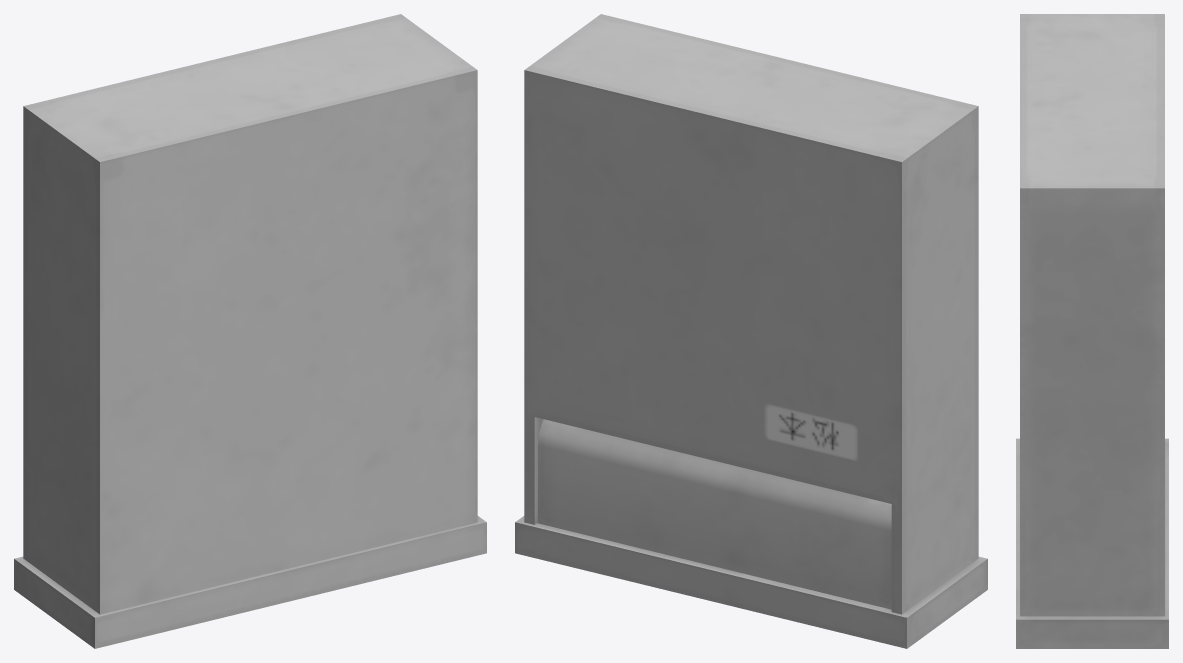
Rendered from anime-mailbox.glb.
The picture shows the model from 3 angles, left to right: view 1: azimuth 30°, elevation 25°; view 2: azimuth 150°, elevation 25°; view 3: azimuth 270°, elevation 25°; orthographic projection. The views are drawn at different scales.
Visible parts, largest first — view 1: anime-mailbox; view 2: anime-mailbox; view 3: anime-mailbox.
Boxes of the visible parts, x1,y1,x2,y2 form: anime-mailbox: [14, 14, 486, 648]; anime-mailbox: [515, 14, 987, 648]; anime-mailbox: [1016, 14, 1168, 648].
Size of the model in its own units: 0.3932 by 0.4636 by 0.1403.
1 material, 1 textured.
